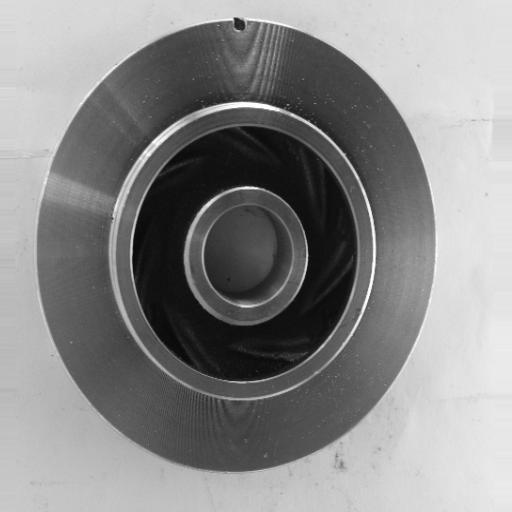pit: (223, 11, 255, 44)
unpolished_casting: (35, 16, 439, 477)
